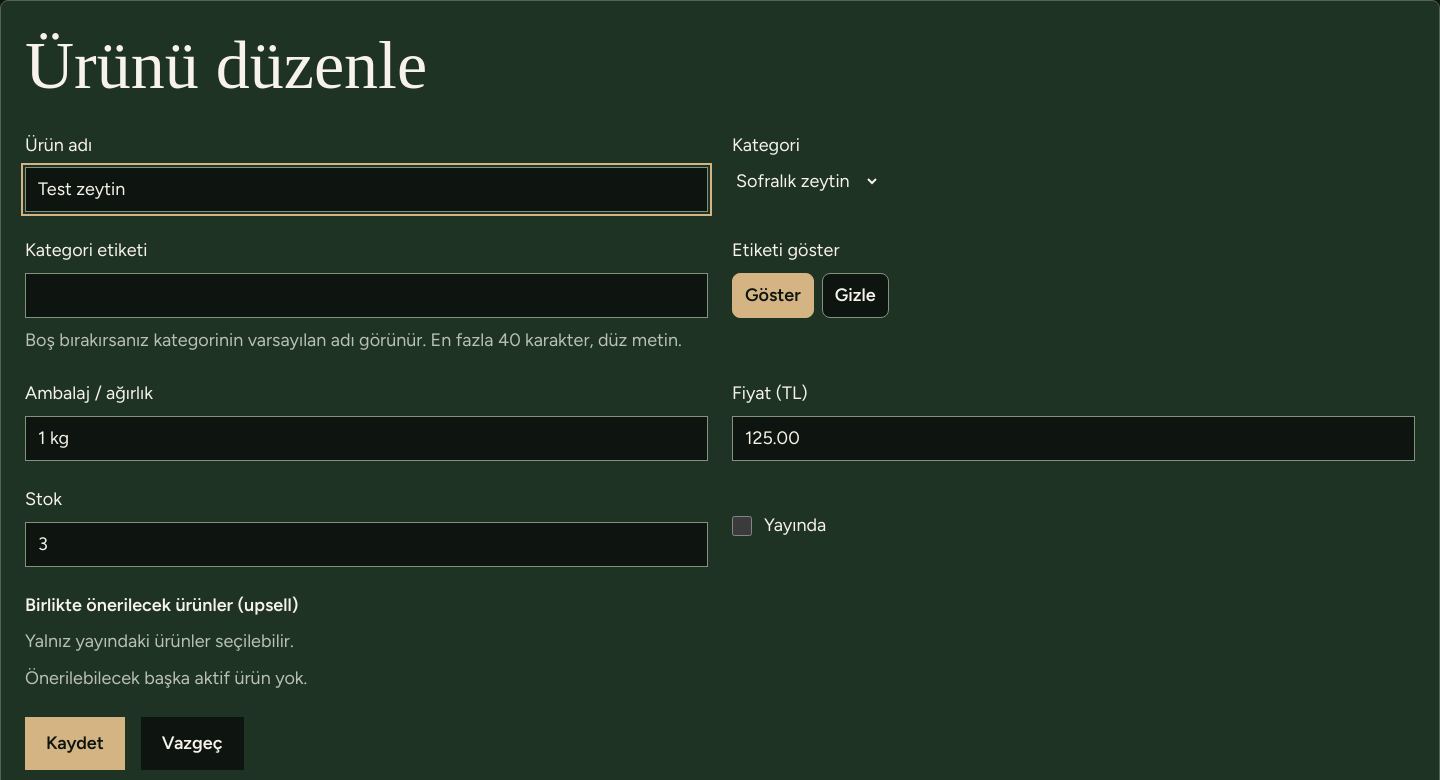
Test case: does not save an invalid category label (<b>Zeytin</b>)
This screenshot has width=1440, height=780.
Type "<b>Zeytin</b>" into the field labelled "Kategori etiketi" at coordinates (366, 296), box top-left (25, 273), bottom-right (708, 318)
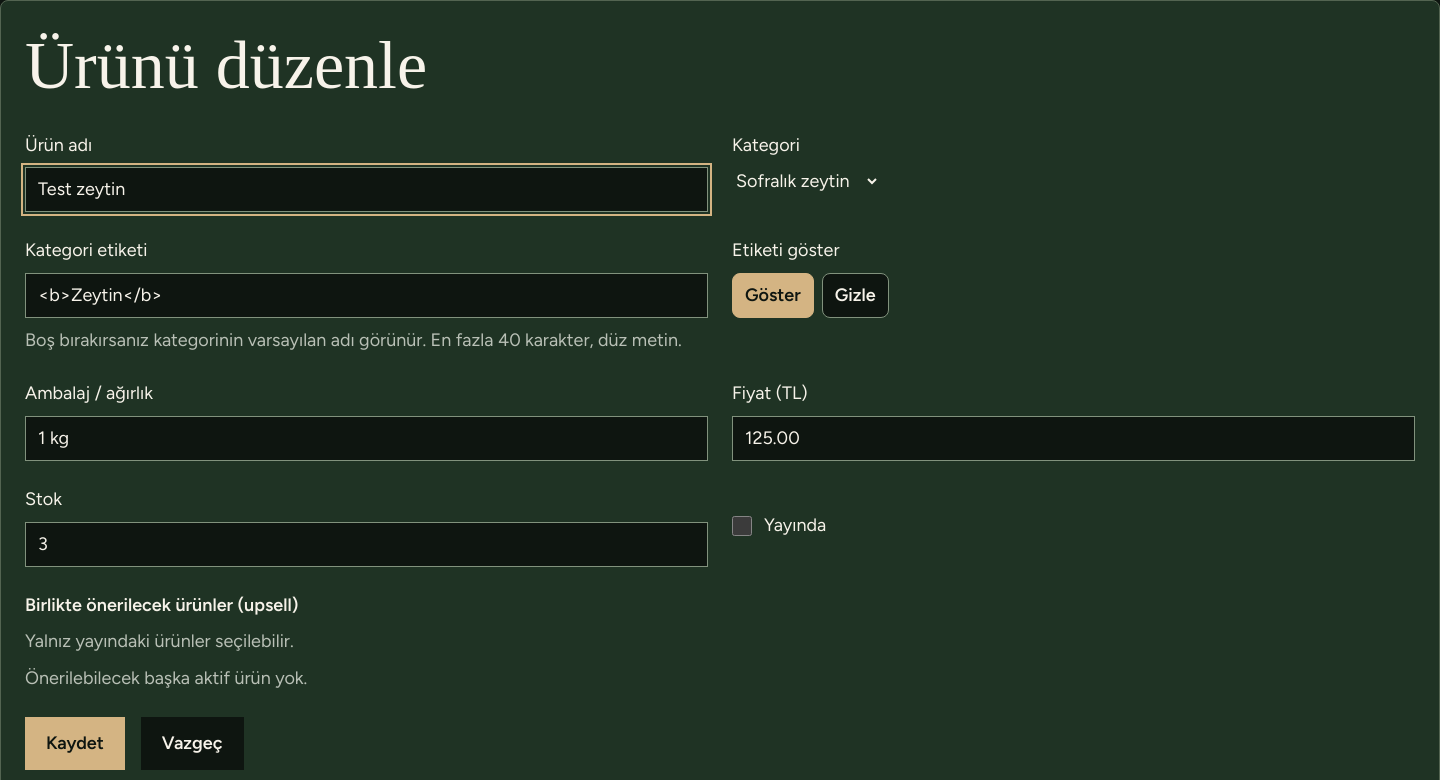
Submit the form named "Kaydet"
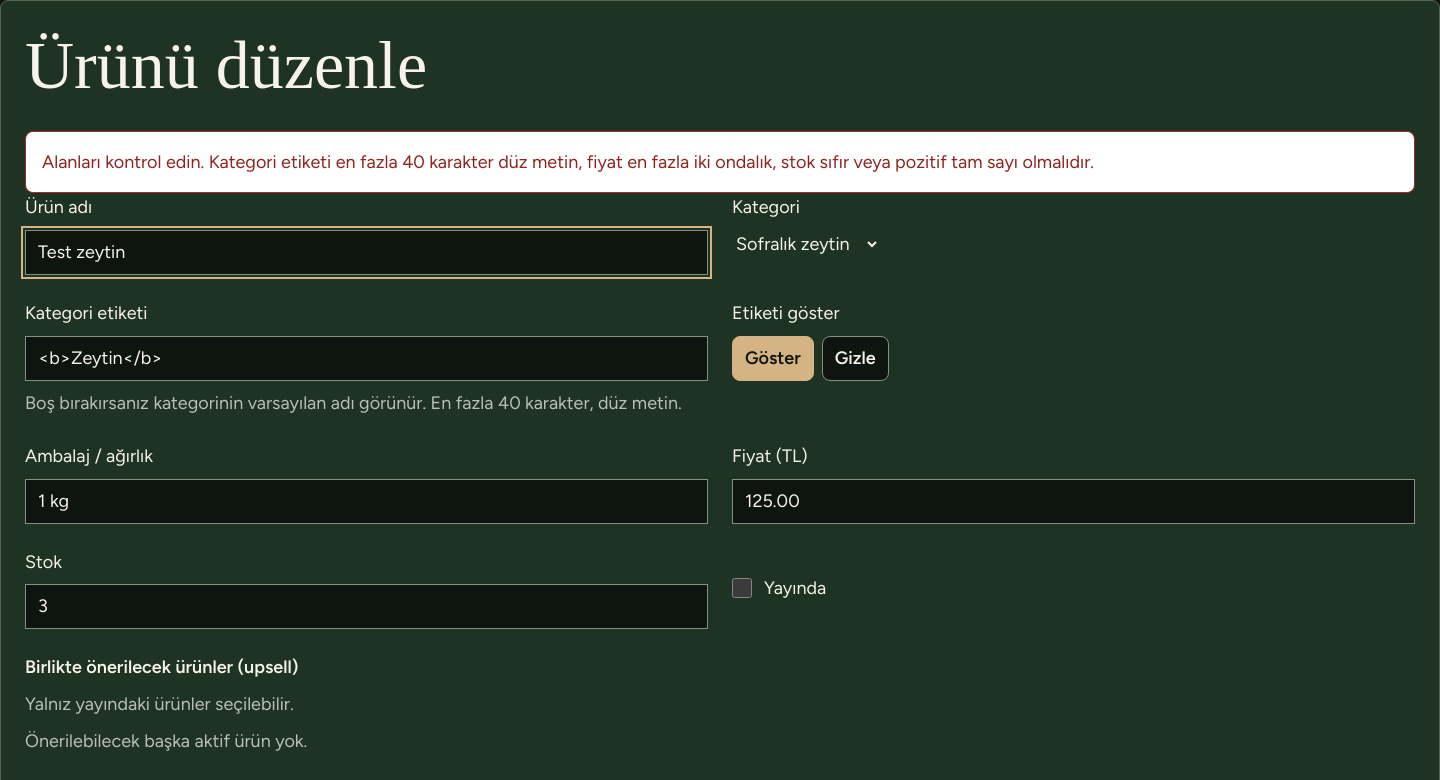
Now the message is shown, box top-left (25, 131), bottom-right (1415, 193)
